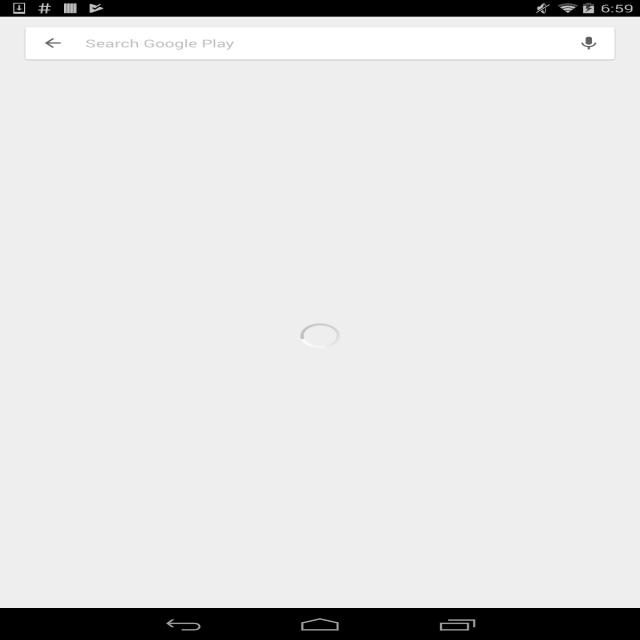button: (40, 32, 65, 53), (576, 32, 601, 53)
field: (26, 27, 615, 60)
label: (82, 36, 237, 52)
